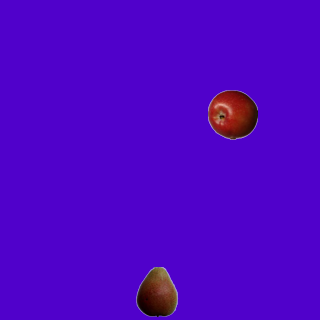Apple Braeburn: (207, 89, 257, 139)
Pear Forelle: (131, 266, 181, 316)
